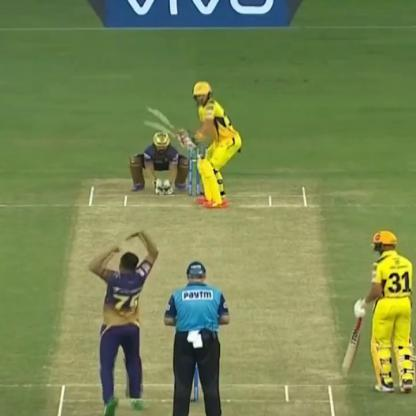ball: (104, 236, 125, 256)
bat: (138, 108, 196, 150)
pitch: (51, 171, 341, 416)
